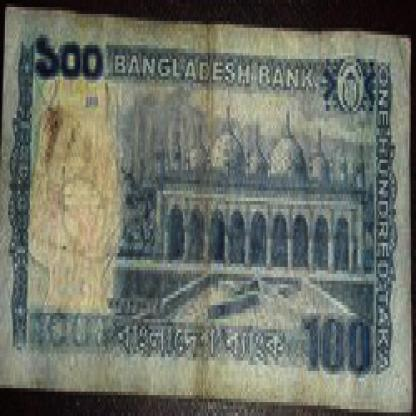one hundred taka: (301, 305, 376, 381), (30, 24, 106, 87)
